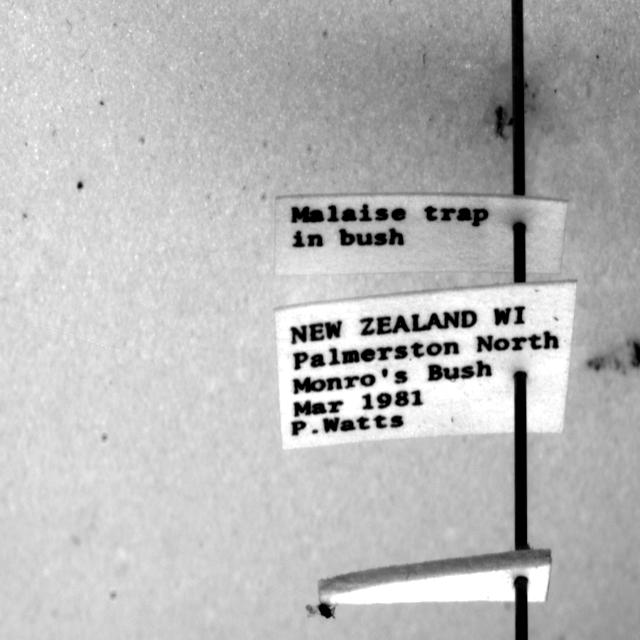typed_label: (275, 281, 576, 448), (275, 193, 568, 276)
